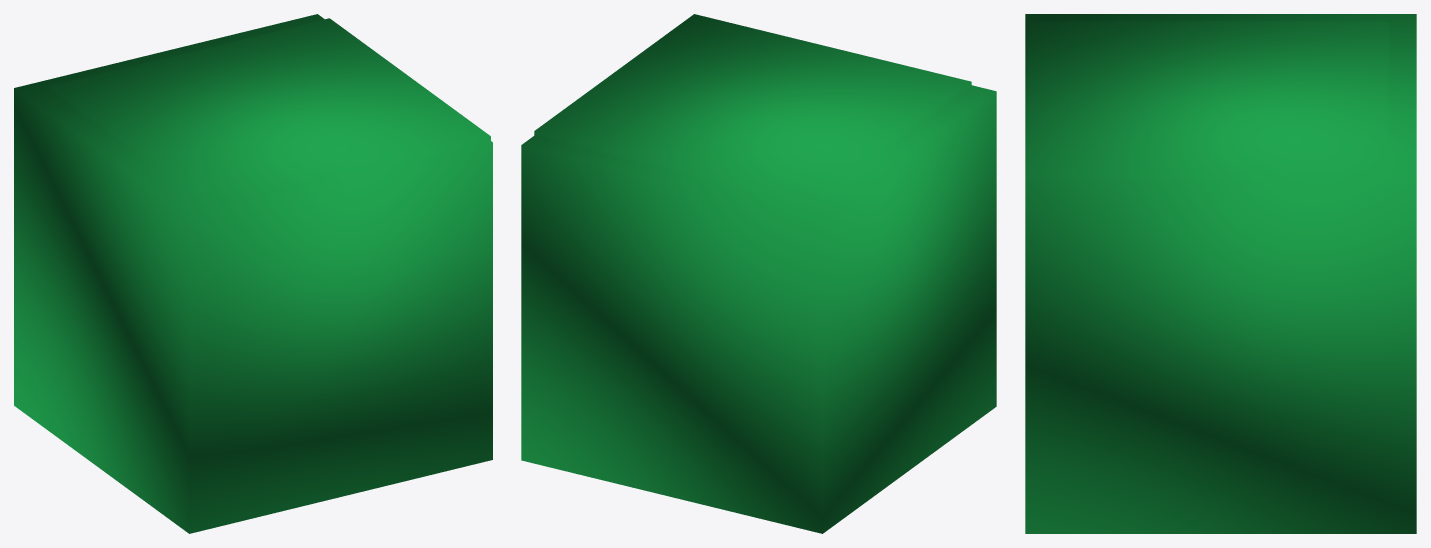
The model's file is ps2_jrpg_dungeon_iron_torch_sconce.obj.
3 views of the same model, side by side, from view 1: azimuth 30°, elevation 25°; view 2: azimuth 150°, elevation 25°; view 3: azimuth 270°, elevation 25° (orthographic). The views are drawn at different scales.
Bounding box in the file's own units: 1 × 1.02 × 1.
